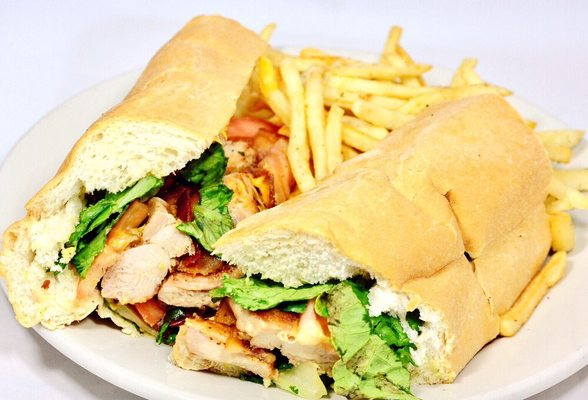soup: (185, 81, 570, 394), (2, 13, 298, 339), (175, 148, 535, 395)
